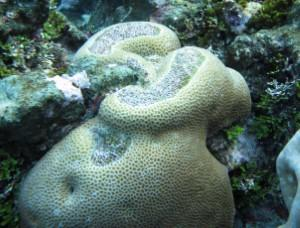bleached_corals: (18, 23, 251, 228), (45, 68, 89, 110)
